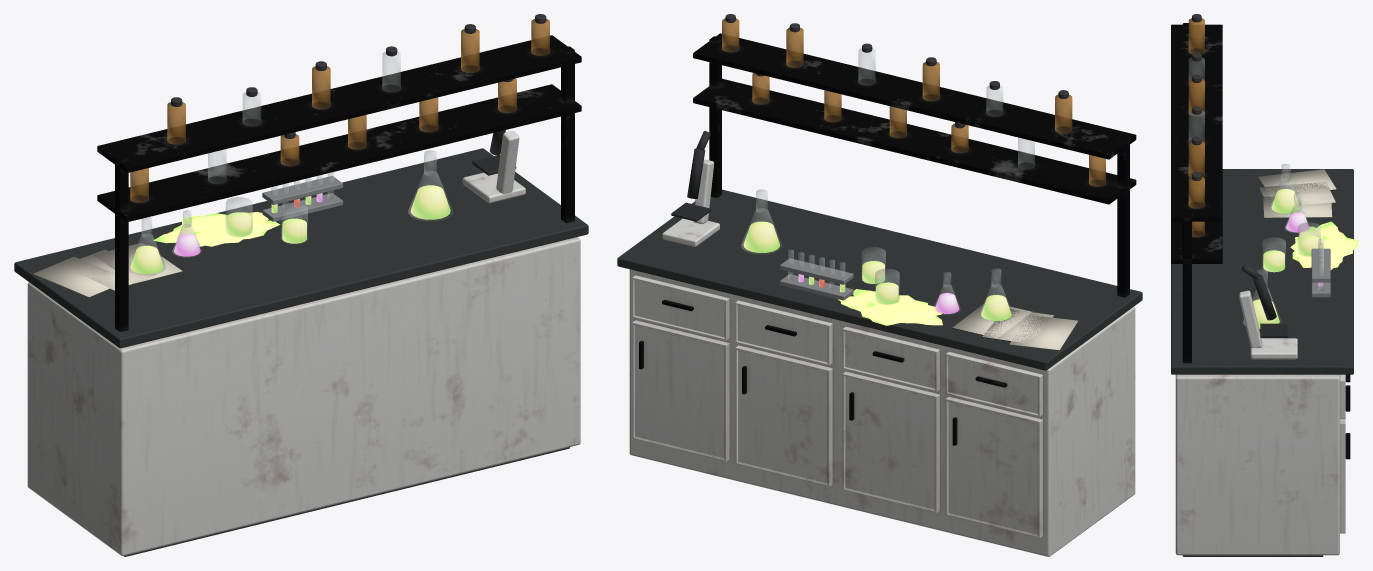
File: mesa_lab.glb
3 renders of one model, left to right at view 1: azimuth 30°, elevation 25°; view 2: azimuth 150°, elevation 25°; view 3: azimuth 270°, elevation 25°, orthographic. The views are drawn at different scales.
Parts seen in each view (by area): view 1: mesa_lab; view 2: mesa_lab; view 3: mesa_lab.
Boxes of the visible parts, x1,y1,x2,y2 form: mesa_lab: (14,14,588,556); mesa_lab: (617,14,1142,556); mesa_lab: (1171,14,1358,556).
Bounding box in the file's own units: 2 × 1.79 × 0.8012.
Materials: 6 (1 with a texture image).
